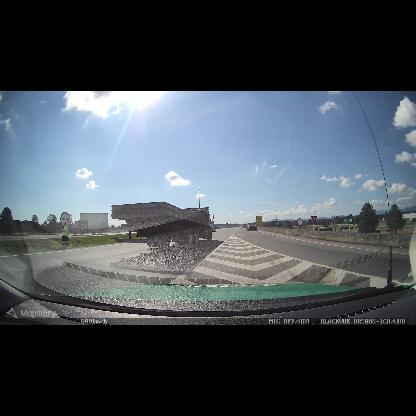R-2: (310, 216, 317, 224)
R-24a: (60, 212, 71, 225), (297, 218, 302, 226)
